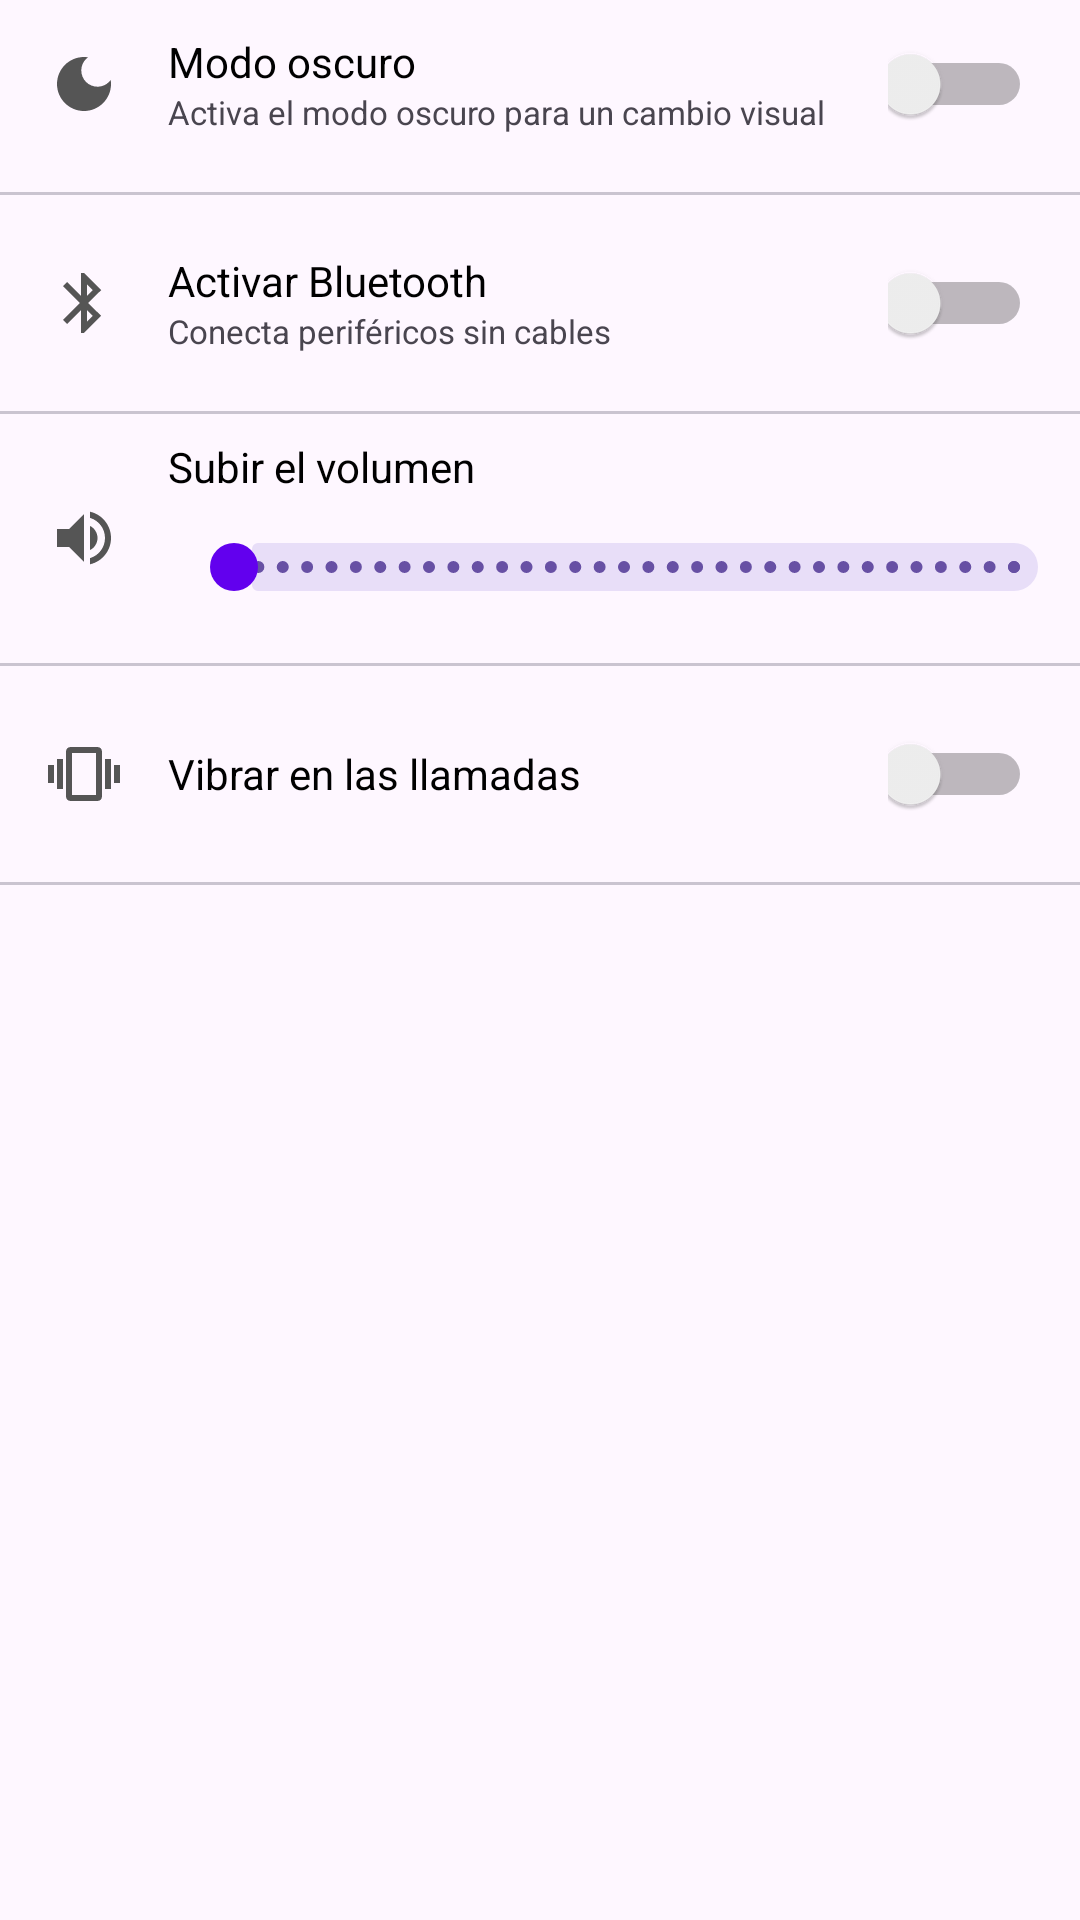

Icons on this 1080 x 1920 Android screen, each with the point to tap as (x,y):
mode: (84,84)
vibration: (84,774)
